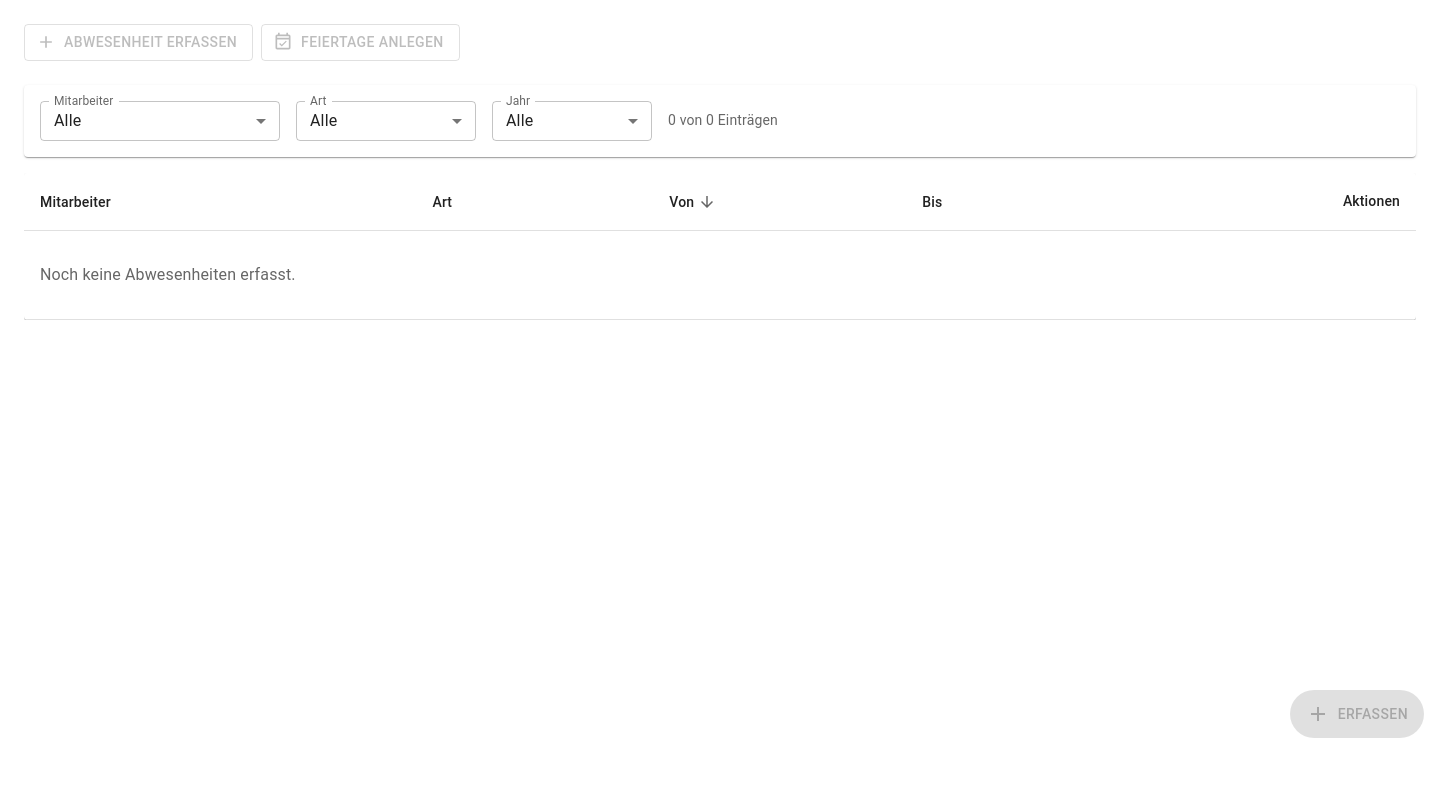
Test: AbsencesView › with a branch selected › shows a disabled FAB (not none at all) and a tooltip on the laptop buttons when there are no active employees
Expected: the text "Noch keine Abwesenheiten erfasst." is shown, left=40, top=265, right=296, bottom=284
Expected: the button "Feiertage anlegen" is disabled, left=261, top=24, right=460, bottom=60
Hover over the element showing "Abwesenheit erfassen" at (139, 42), box left=24, top=24, right=253, bottom=60
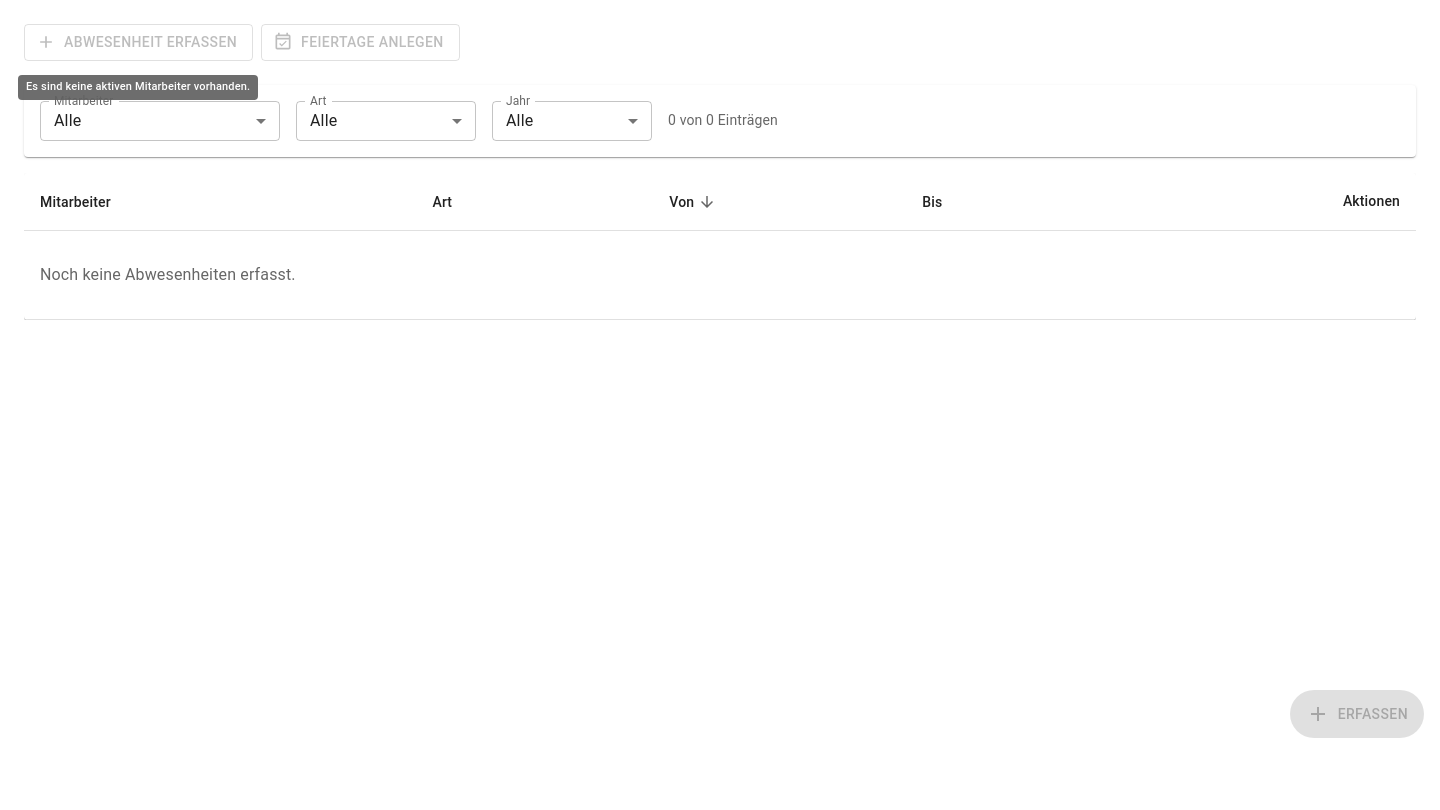
Expected: the tooltip shows "aktiven Mitarbeiter", left=26, top=80, right=250, bottom=93
